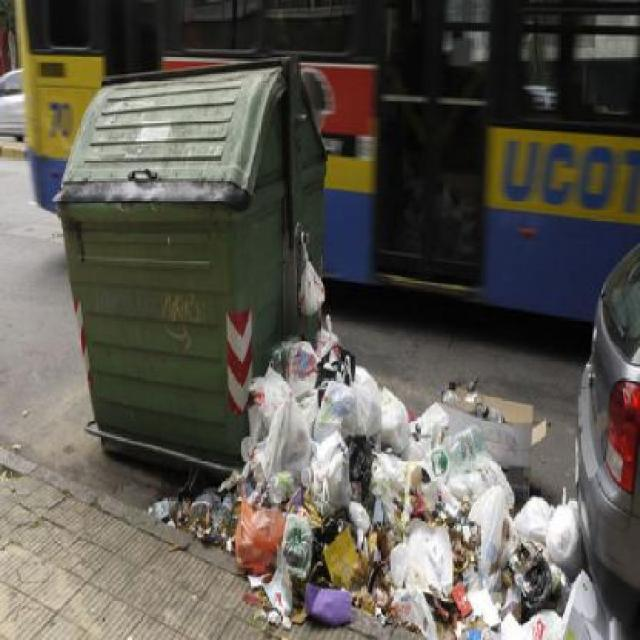garbage: (151, 468, 598, 639), (242, 340, 506, 473), (291, 226, 327, 318)
